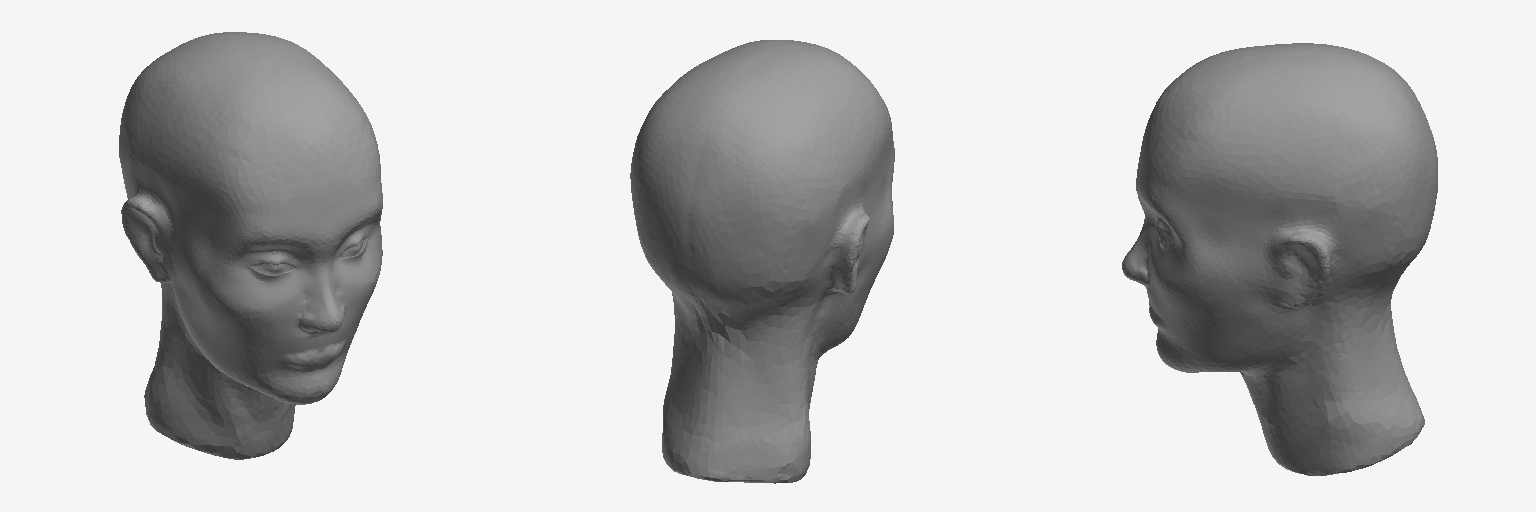
The model's file is head.obj.
3 views of the same model, side by side, from view 1: azimuth 30°, elevation 25°; view 2: azimuth 150°, elevation 25°; view 3: azimuth 270°, elevation 25° (orthographic).
Visible parts, largest first — view 1: 16049_vn_obj_1; view 2: 16049_vn_obj_1; view 3: 16049_vn_obj_1.
Part boxes in pixels (x1,y1,x2,y2): 16049_vn_obj_1: (119, 32, 382, 459); 16049_vn_obj_1: (630, 40, 894, 483); 16049_vn_obj_1: (1122, 43, 1437, 475).
Bounding box in the file's own units: 1.05 × 1.77 × 1.27.